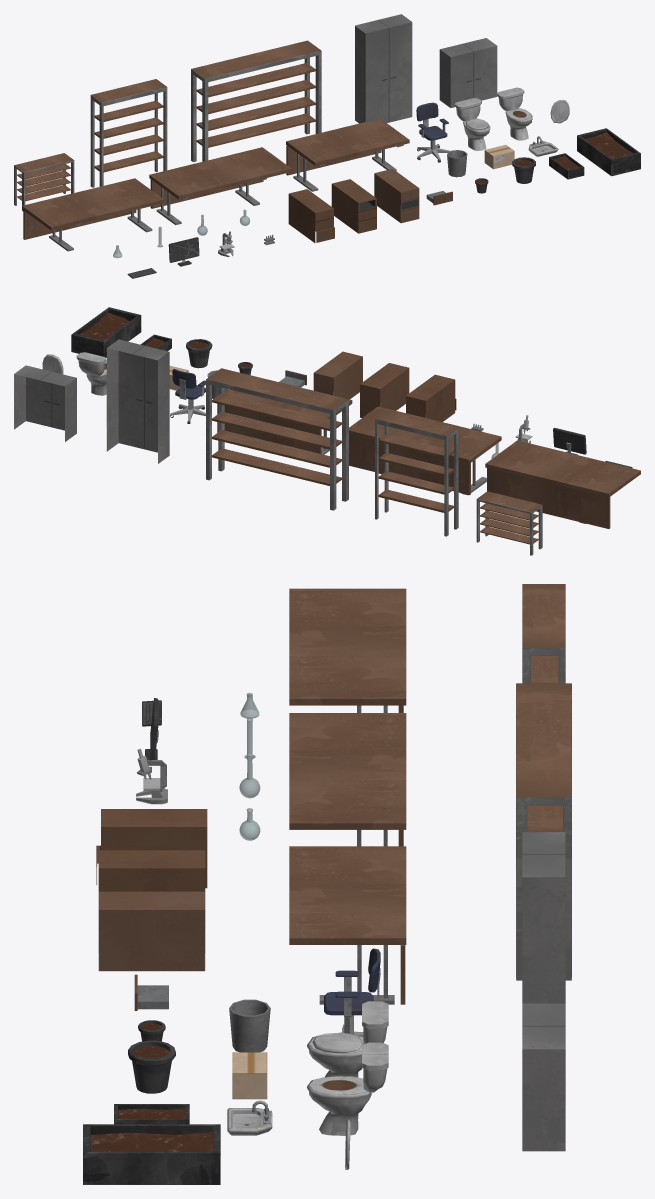
Rendered from office_parts.glb.
The picture shows the model from 3 angles, top to bottom: view 1: azimuth 30°, elevation 25°; view 2: azimuth 150°, elevation 25°; view 3: azimuth 270°, elevation 25°; orthographic projection. The views are drawn at different scales.
Parts seen in each view (by area): view 1: Open_cabinet_large, Closed_cabinet_Big, Desk_1, Desk_2, Open_cabinet_medium1, Desk_small, Closed_cabinet_medium, Open_cabinet_small, Big_square, Cabinet_2, Cabinet_1, Cabinet_3 (+8 smaller); view 2: Open_cabinet_large, Desk_1, Closed_cabinet_Big, Open_cabinet_medium1, Desk_2, Closed_cabinet_medium, Open_cabinet_small, Desk_small, Big_square, Cabinet_1, Cabinet_2, Cabinet_3 (+4 smaller); view 3: Desk_2, Desk_1, Desk_small, Open_cabinet_large, Cabinet_3, Big_square, Closed_cabinet_Big, Closed_cabinet_medium, Cabinet_2, Cabinet_1, Open_cabinet_medium1, Toilet_1 (+9 smaller).
Boxes of the visible parts, x1,y1,x2,y2 form: Open_cabinet_large: [191, 40, 321, 162]; Closed_cabinet_Big: [355, 14, 412, 123]; Desk_1: [22, 178, 164, 251]; Desk_2: [149, 147, 291, 225]; Open_cabinet_medium1: [90, 79, 167, 187]; Desk_small: [286, 118, 409, 191]; Closed_cabinet_medium: [439, 38, 497, 107]; Open_cabinet_small: [14, 153, 74, 211]; Big_square: [577, 128, 640, 176]; Cabinet_2: [288, 189, 334, 243]; Cabinet_1: [331, 179, 376, 233]; Cabinet_3: [374, 168, 419, 223]; Open_cabinet_large: [206, 368, 348, 510]; Desk_1: [485, 440, 640, 528]; Closed_cabinet_Big: [106, 339, 169, 463]; Open_cabinet_medium1: [375, 410, 458, 536]; Desk_2: [349, 406, 501, 495]; Closed_cabinet_medium: [14, 365, 76, 441]; Open_cabinet_small: [476, 491, 542, 555]; Desk_small: [217, 389, 352, 454]; Big_square: [71, 307, 141, 357]; Cabinet_1: [360, 363, 409, 417]; Cabinet_2: [406, 374, 456, 421]; Cabinet_3: [313, 351, 362, 399]; Desk_2: [289, 713, 406, 846]; Desk_1: [289, 588, 406, 712]; Desk_small: [289, 846, 406, 1004]; Open_cabinet_large: [516, 683, 571, 980]; Cabinet_3: [98, 891, 205, 971]; Big_square: [83, 1124, 220, 1184]; Closed_cabinet_Big: [522, 832, 565, 1003]; Closed_cabinet_medium: [522, 1003, 565, 1151]; Cabinet_2: [96, 809, 207, 888]; Cabinet_1: [98, 850, 205, 891]; Open_cabinet_medium1: [522, 584, 565, 683]; Toilet_1: [307, 1042, 388, 1135].
Bounding box in the file's own units: 1268 × 218 × 499.
Materials: 1 (1 with a texture image).
